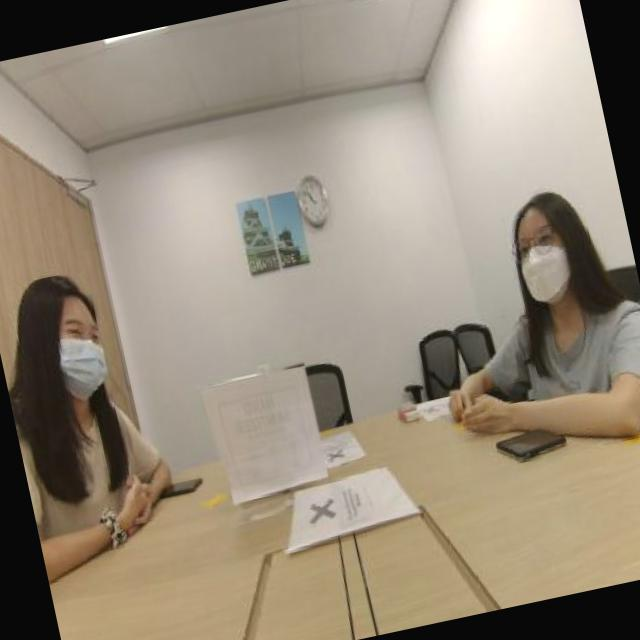Person: (434, 150, 640, 447), (0, 219, 158, 509)
